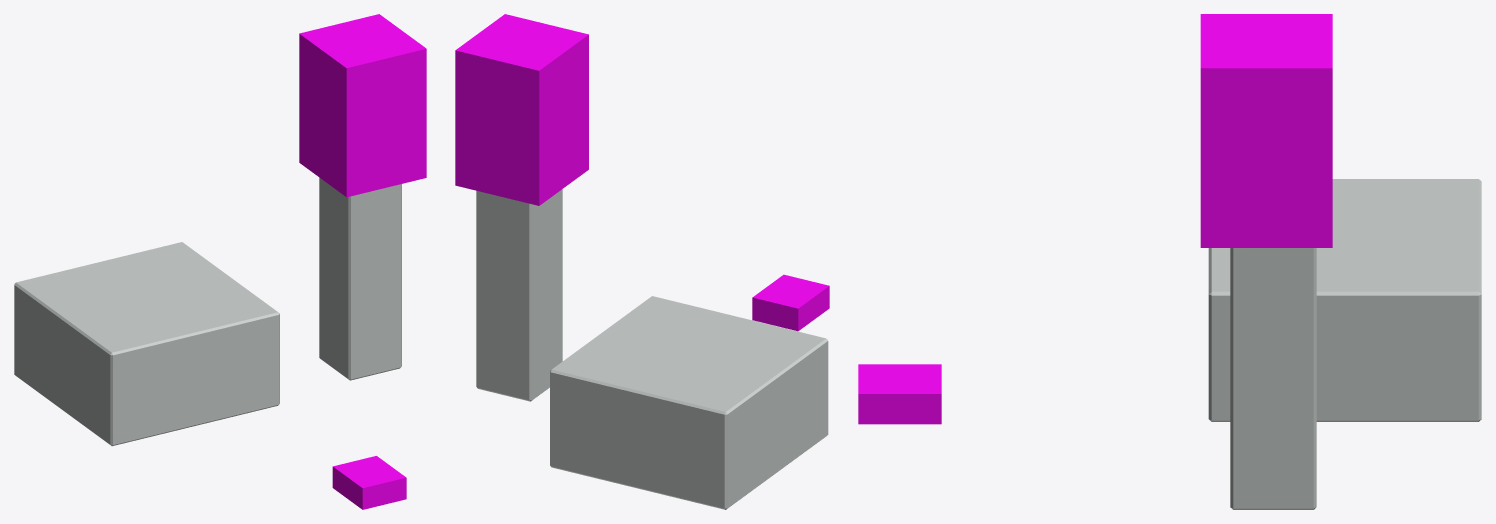
Rendered from paranoid.glb.
3 renders of one model, left to right at view 1: azimuth 30°, elevation 25°; view 2: azimuth 150°, elevation 25°; view 3: azimuth 270°, elevation 25°, orthographic. The views are drawn at different scales.
Parts seen in each view (by area): view 1: plinth, bust_proxy, bust_stand, beetle_proxy; view 2: plinth, bust_proxy, bust_stand, beetle_proxy; view 3: plinth, bust_proxy, bust_stand, beetle_proxy.
Part boxes in pixels (left/top/right/bottom): plinth: left=14, top=242, right=279, bottom=446; bust_proxy: left=299, top=14, right=426, bottom=197; bust_stand: left=319, top=177, right=401, bottom=380; beetle_proxy: left=332, top=456, right=406, bottom=509; plinth: left=550, top=296, right=828, bottom=509; bust_proxy: left=455, top=14, right=588, bottom=205; bust_stand: left=476, top=189, right=562, bottom=401; beetle_proxy: left=752, top=274, right=829, bottom=331; plinth: left=1208, top=179, right=1481, bottom=421; bust_proxy: left=1200, top=14, right=1332, bottom=247; bust_stand: left=1230, top=248, right=1316, bottom=509; beetle_proxy: left=858, top=364, right=941, bottom=424.
Size of the model in its own units: 1.75 by 1.74 by 2.17.
